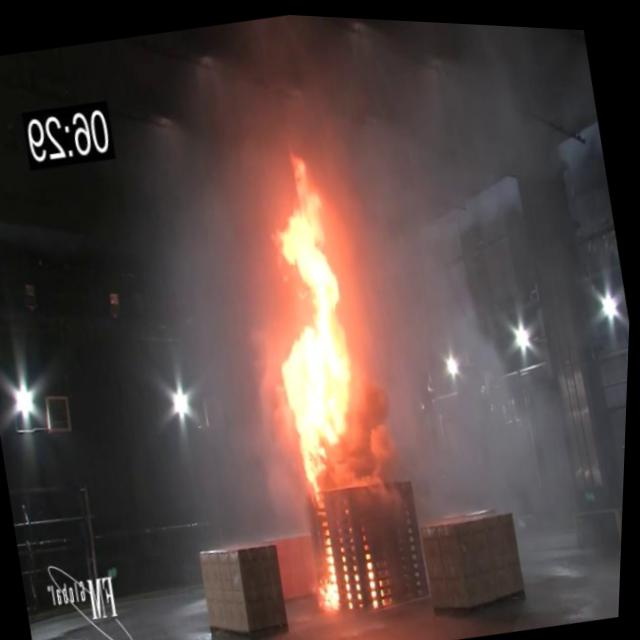fire: (235, 135, 387, 494), (309, 521, 351, 615)
